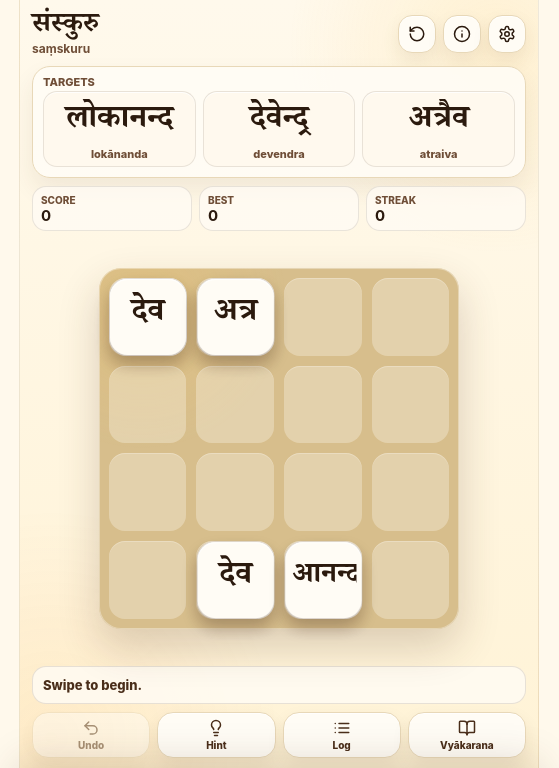
Test case: App smoke flow › restart cancels in-flight move rendering before creating a new run
Press ArrowLeft
Click the button named "Restart".
click(417, 34)  # box [398, 15, 436, 53]
Wait 500 ms
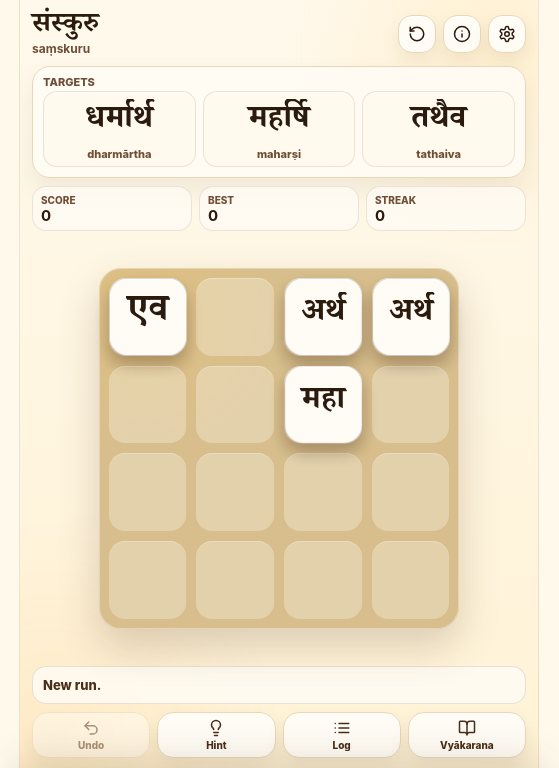
expect the text "New run." is shown: met, box [43, 677, 101, 693]
